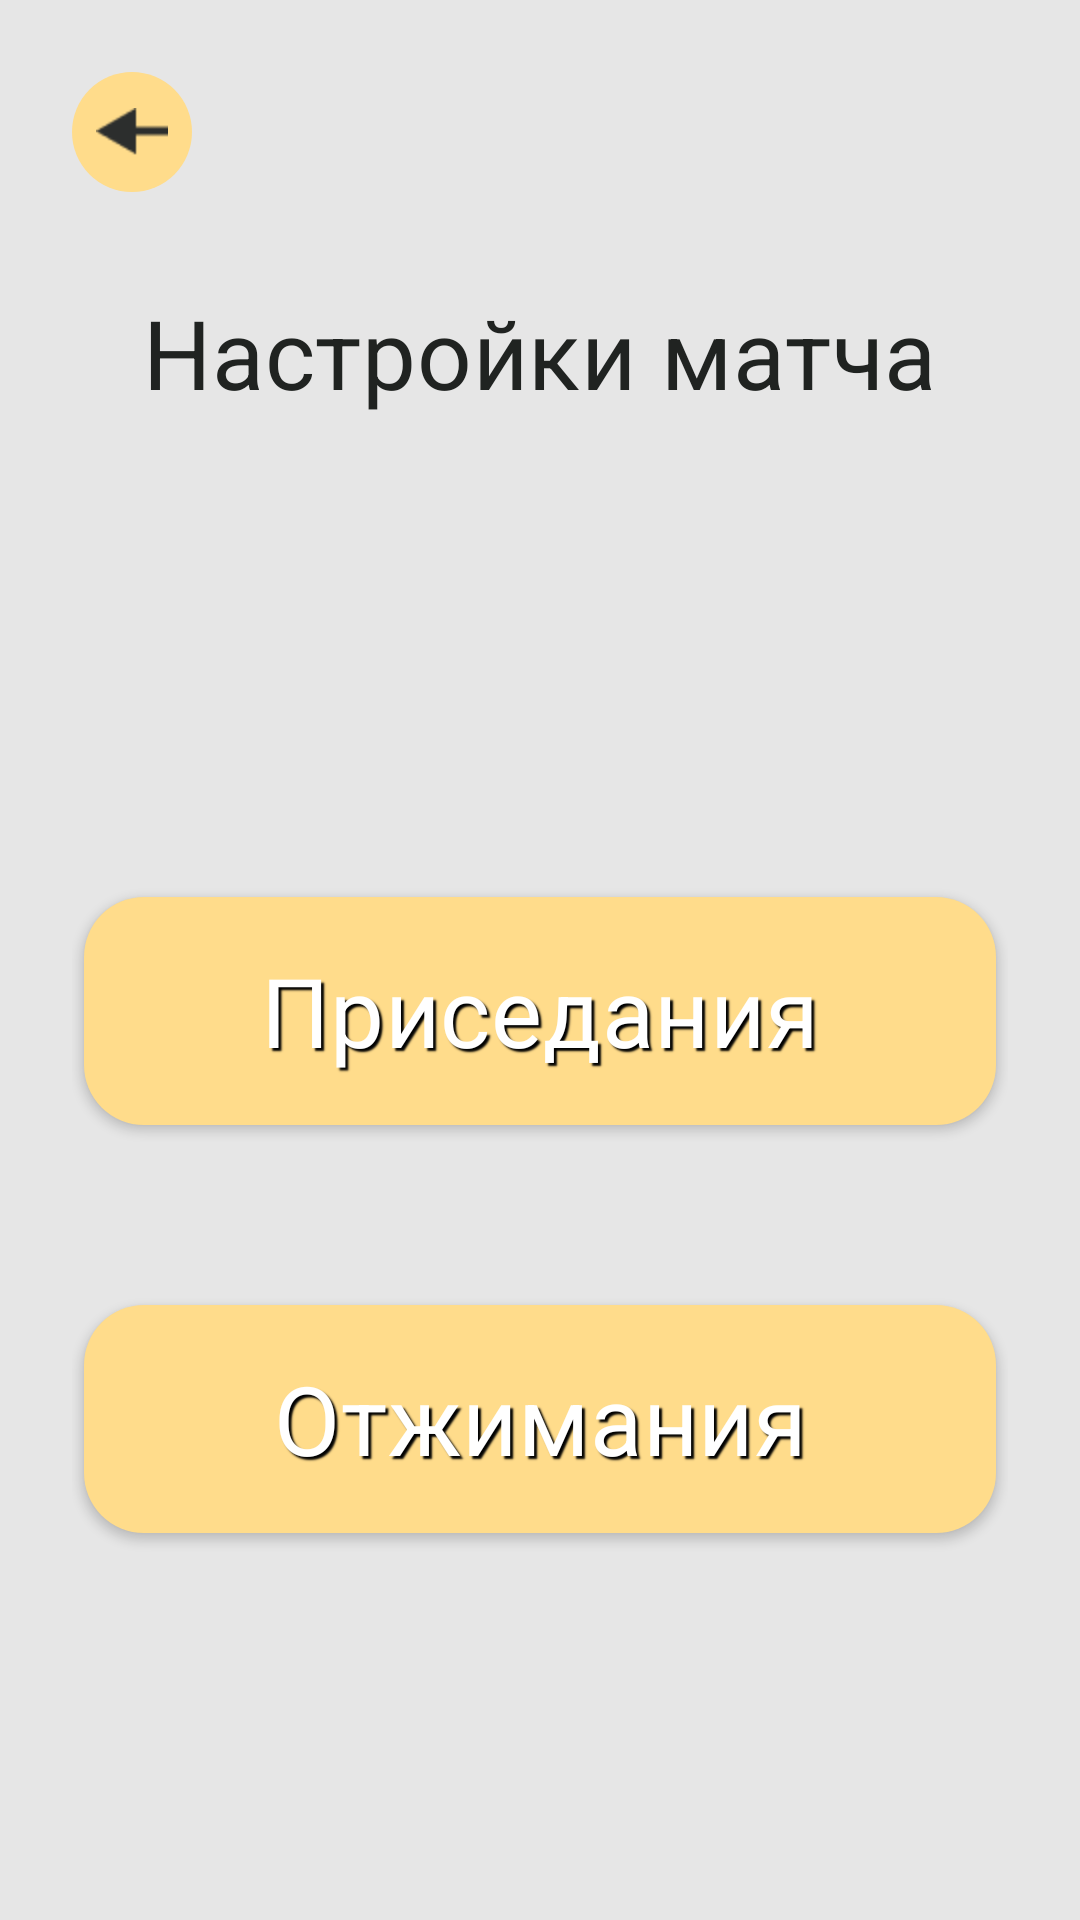

Locate icon controls on the screen. Image size 1080px×1920px, boxes as (x1, y1, x2, y2).
arrow: (72, 72, 192, 192)
